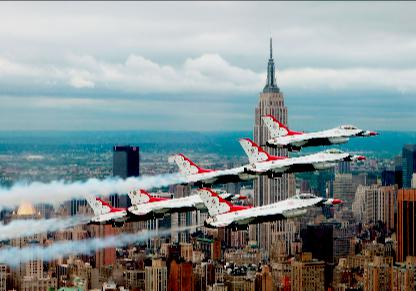F14: (195, 187, 346, 230), (237, 137, 370, 178), (258, 114, 382, 151), (123, 184, 249, 219), (170, 152, 258, 187), (82, 192, 170, 226)
